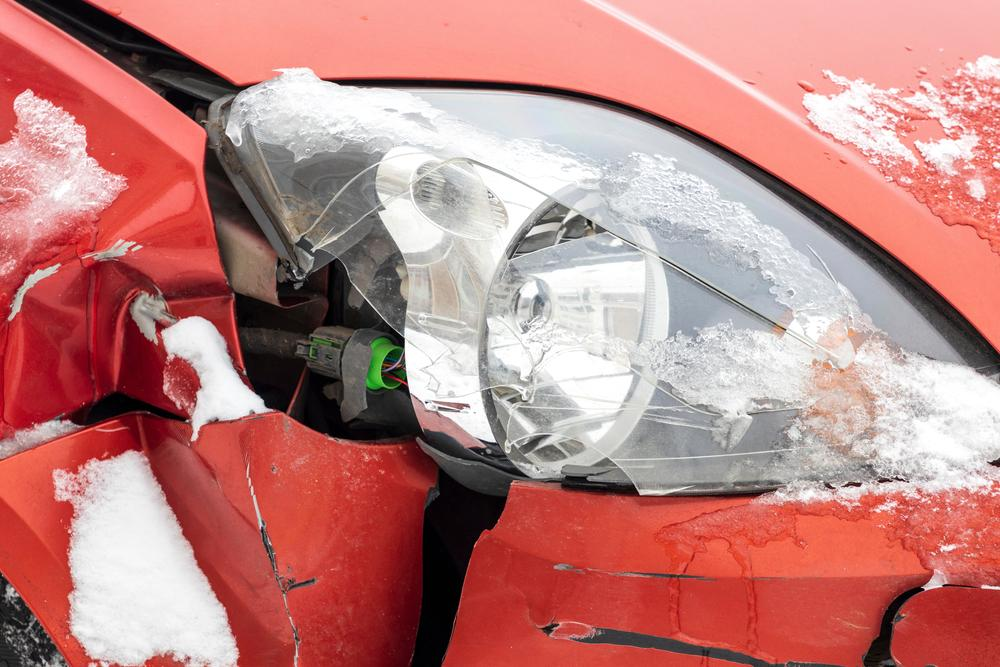crack: (408, 465, 514, 667), (244, 458, 319, 667), (863, 583, 983, 667)
dent: (0, 260, 248, 446)
lamp broken: (211, 76, 1000, 495)
scratch: (531, 618, 855, 667), (546, 561, 784, 586)
